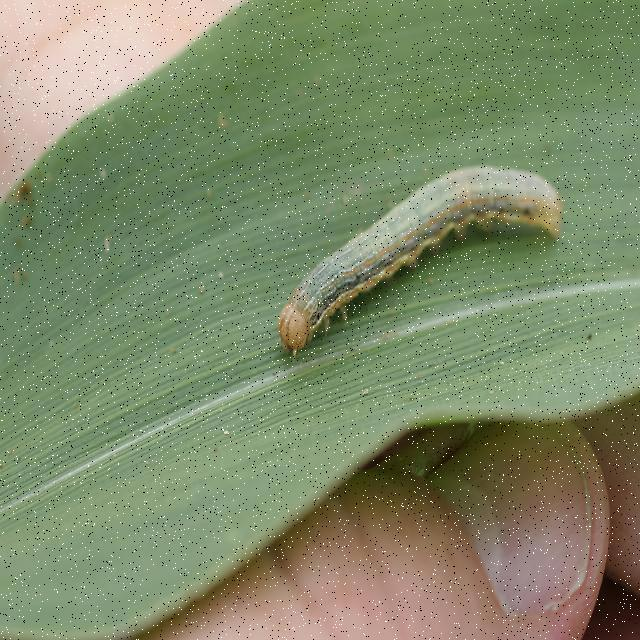army worm: (278, 171, 585, 335)
